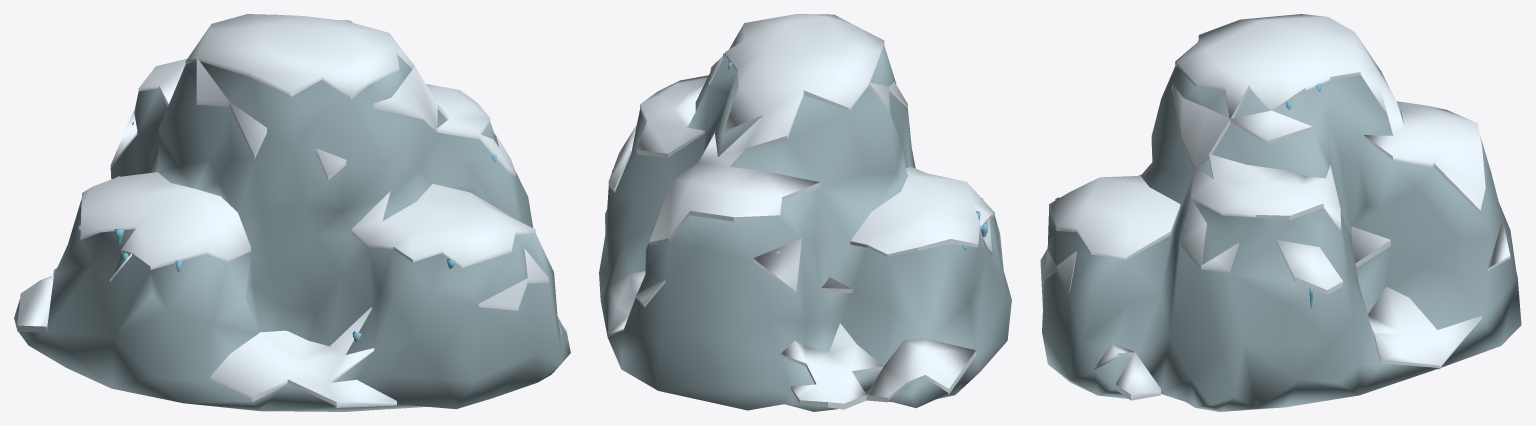
File: FirstRoom_SmallRock.fbx
3 views of the same model, side by side, from view 1: azimuth 30°, elevation 25°; view 2: azimuth 150°, elevation 25°; view 3: azimuth 270°, elevation 25° (orthographic). The views are drawn at different scales.
Parts seen in each view (by area): view 1: FirstRoom_SmallRock_LOD0; view 2: FirstRoom_SmallRock_LOD0; view 3: FirstRoom_SmallRock_LOD0.
Boxes of the visible parts, x1,y1,x2,y2 form: FirstRoom_SmallRock_LOD0: (14,14,570,411); FirstRoom_SmallRock_LOD0: (599,14,1011,411); FirstRoom_SmallRock_LOD0: (1040,14,1521,411).
Size of what is drawn, in the model's own units: 5.84 by 3.92 by 6.
